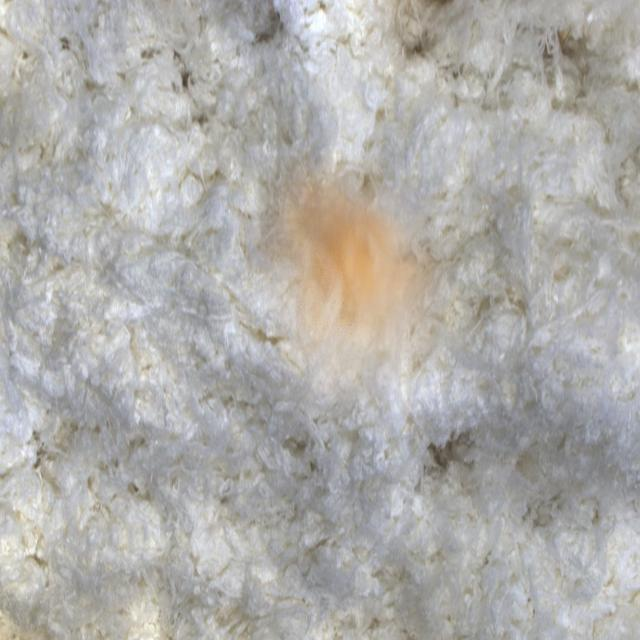dust: (239, 157, 457, 438)
